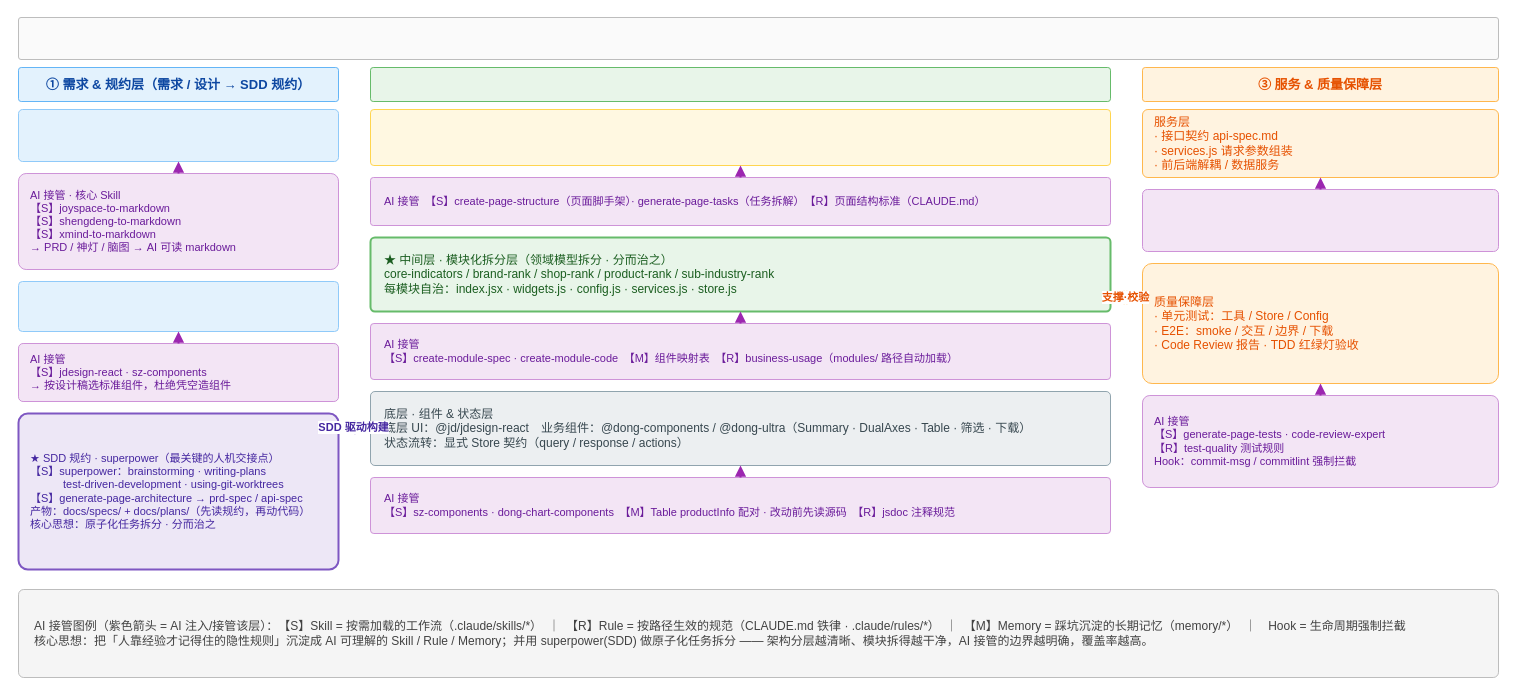
Image size: 1516x695. Some labels were removed from this diagram. Here are the shapes that lost their labels. From the top down, the box of each, then its label:
(18, 16, 1498, 60): AI Native 工程架构全景：分层改造 + AI 如何逐层接管（以商智数据看板为例）
(370, 66, 1110, 102): ② 研发架构层（自底向上：组件 → 模块 → 页面）
(18, 108, 338, 162): 产品需求层 · PRD / 业务规则 / 身份差异 · 交互流程与边界条件
(370, 108, 1110, 166): 最上层 · 业务场景层 行业大盘 · 交易概况 · 分类统计 · 单品牌分析 · 财务分析 app.jsx 只做「头筛 + 模块」布局组装
(1142, 188, 1498, 252): AI 接管 【S】create-module-code（services） 【M】getCommonParams 字段先读源码
(18, 280, 338, 332): 视觉交互层 · UI 设计稿 / 设计规范 · 标准物料 / 像素级还原
